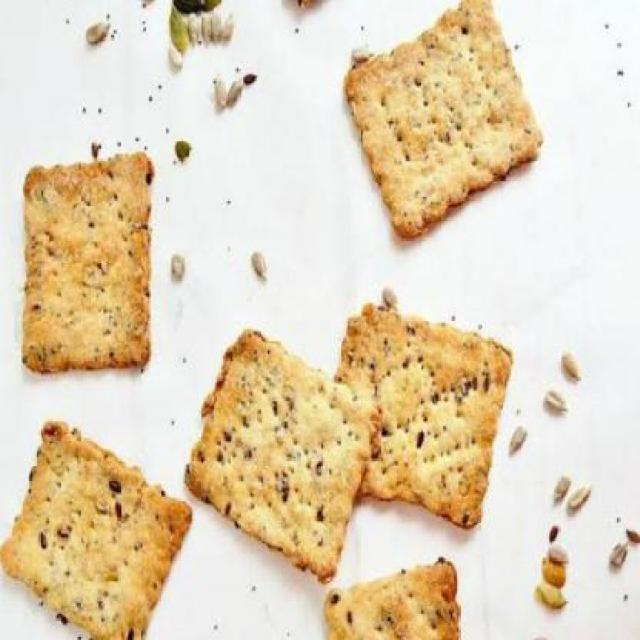Cracker packaged: (348, 1, 562, 228), (192, 332, 362, 580), (3, 419, 186, 633), (15, 162, 164, 386)
